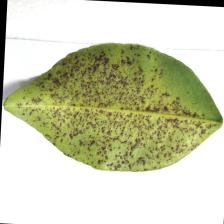canker: (62, 61, 173, 160)
